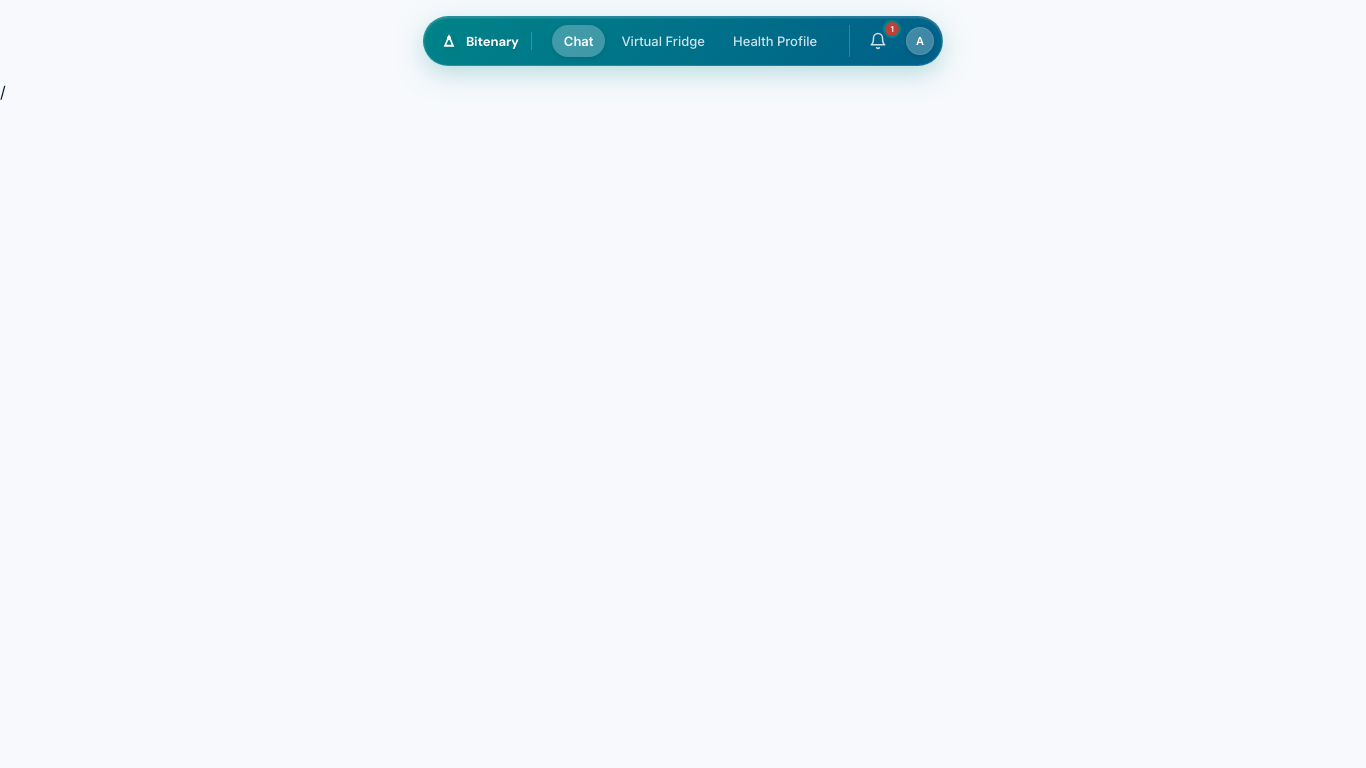
Scenario: TopNav settings › opens the drawer and navigates to MCP connections
Click the button named "User menu for Ada" at (920, 41), box top-left (906, 27), bottom-right (934, 55)
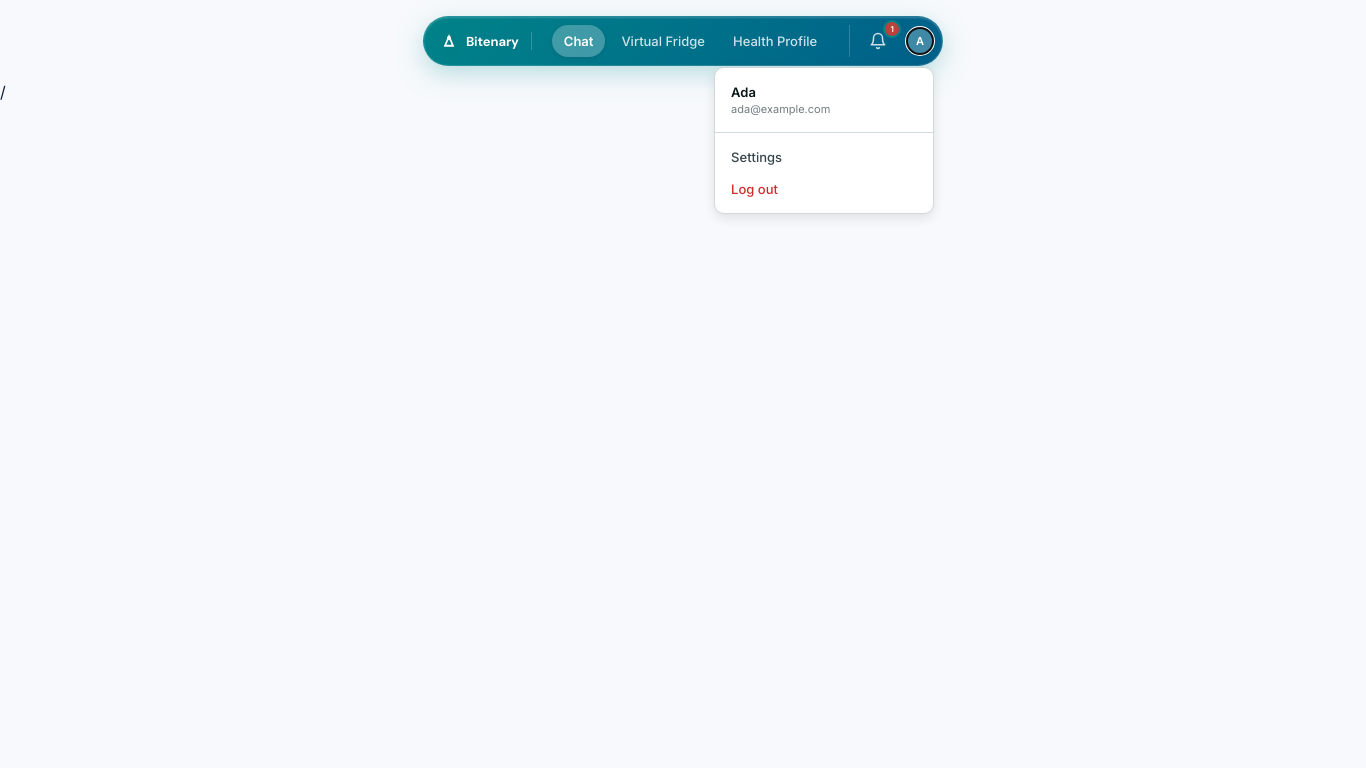
Click the button "Settings" at (824, 157), box top-left (715, 141), bottom-right (933, 173)
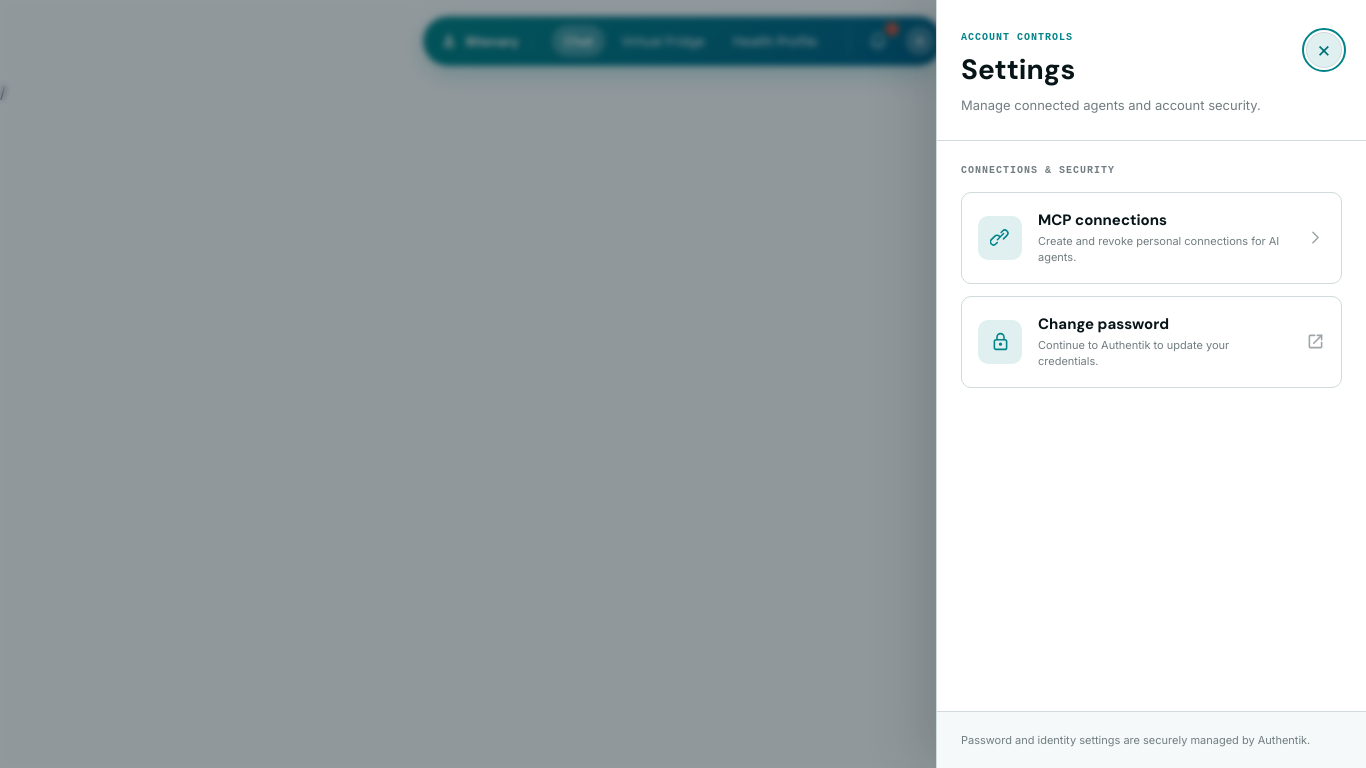
Expected: the dialog "Settings" is shown, top-left (936, 0), bottom-right (1365, 767)
Click the button "MCP connections" at (1152, 238), box top-left (961, 192), bottom-right (1342, 284)
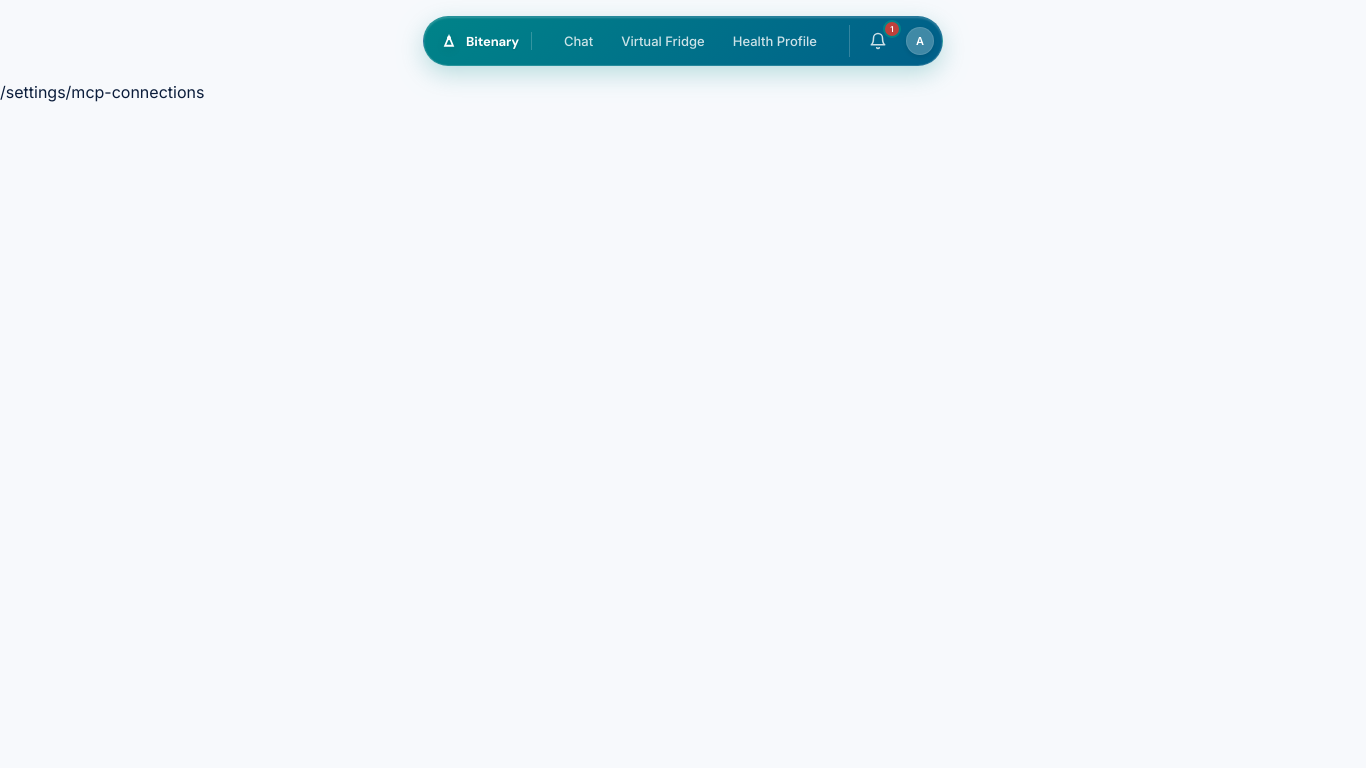
Expected: the text with test id "location" reads "/settings/mcp-connections", top-left (0, 82), bottom-right (204, 102)
